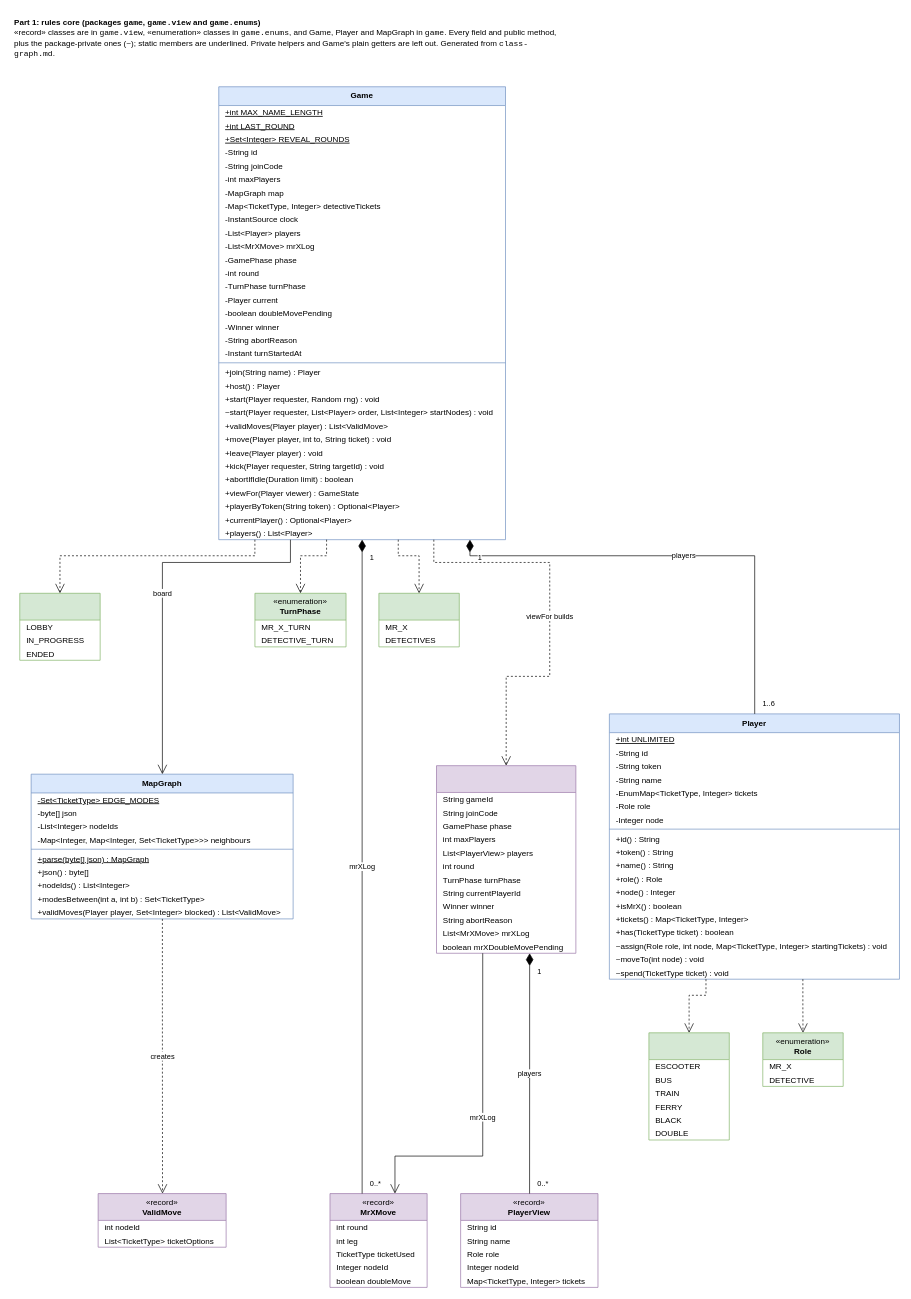
This 911x1299 diagram has some shape labels left out. Each missing label, with the box of its shape:
«enumeration» GamePhase: (19, 593, 100, 660)
«enumeration» TicketType: (648, 1032, 729, 1140)
«enumeration» Winner: (378, 593, 459, 647)
«record» GameState: (436, 765, 576, 953)
